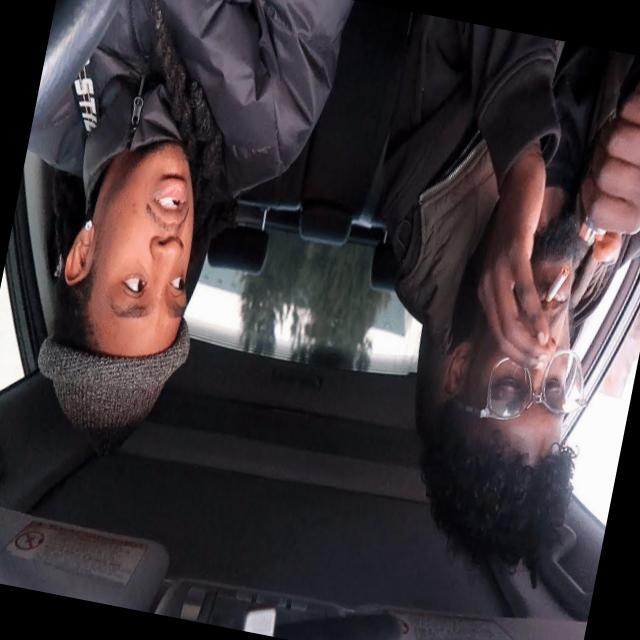cigarette: (534, 236, 584, 320)
